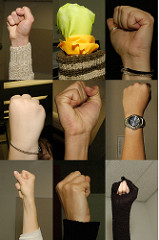fist: (57, 84, 105, 139), (110, 8, 154, 60), (7, 93, 47, 137), (60, 173, 95, 222), (58, 8, 100, 36), (121, 81, 153, 115), (3, 9, 36, 38), (12, 168, 39, 201)
